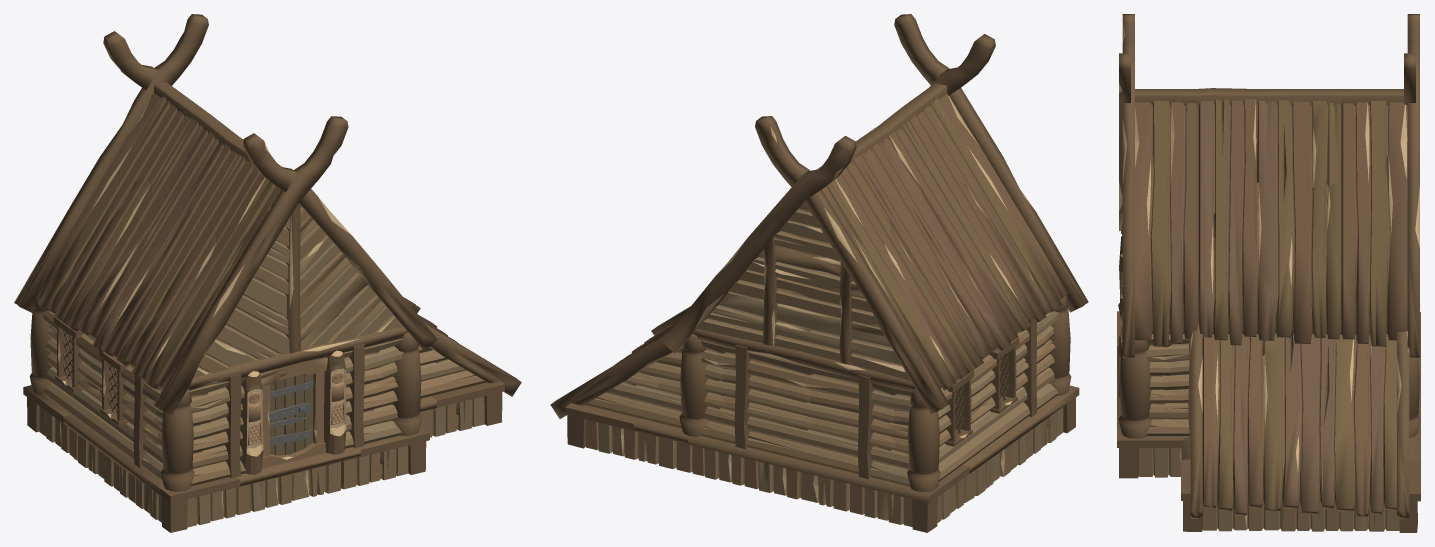
File: House_3.gltf
The picture shows the model from 3 angles, left to right: view 1: azimuth 30°, elevation 25°; view 2: azimuth 150°, elevation 25°; view 3: azimuth 270°, elevation 25°; orthographic projection. The views are drawn at different scales.
Parts seen in each view (by area): view 1: House_3; view 2: House_3; view 3: House_3.
Boxes of the visible parts, bbox=[...] form: House_3: bbox=[14, 14, 521, 532]; House_3: bbox=[550, 14, 1088, 532]; House_3: bbox=[1117, 14, 1420, 532].
Size of the model in its own units: 9.55 by 8.56 by 6.19.
Materials: 1 (1 with a texture image).
